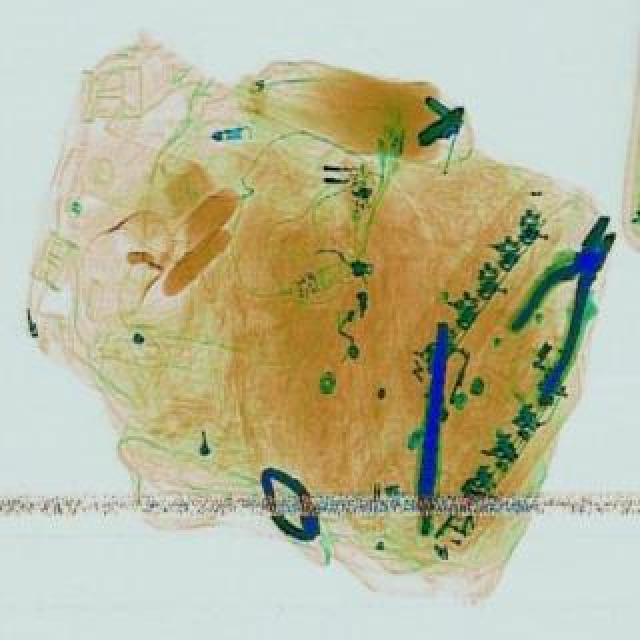wrench: (500, 216, 640, 392)
